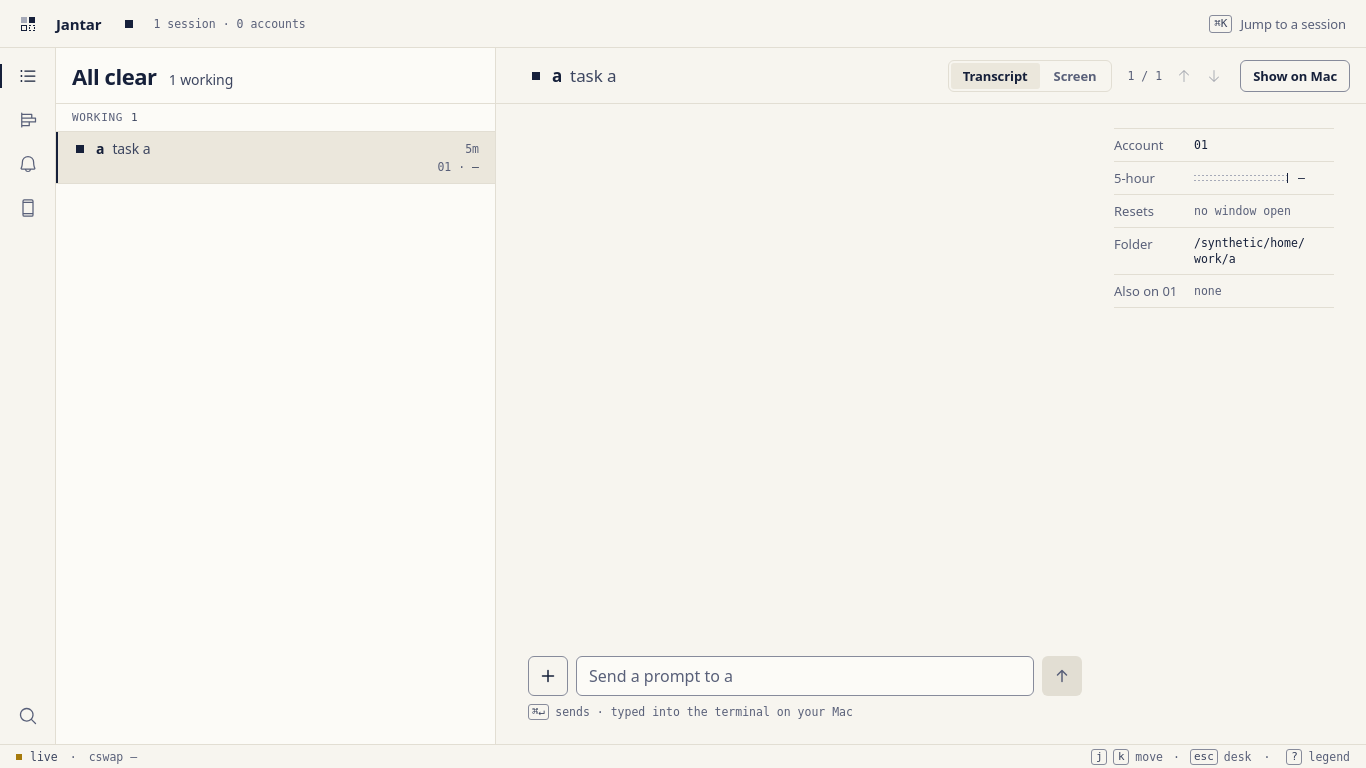
the Screen tab with screenshots on (C8) › a failed tab switch keeps the text peek and says why under it
Click the tab "Screen" at (1075, 76), box [1042,62,1108,88]
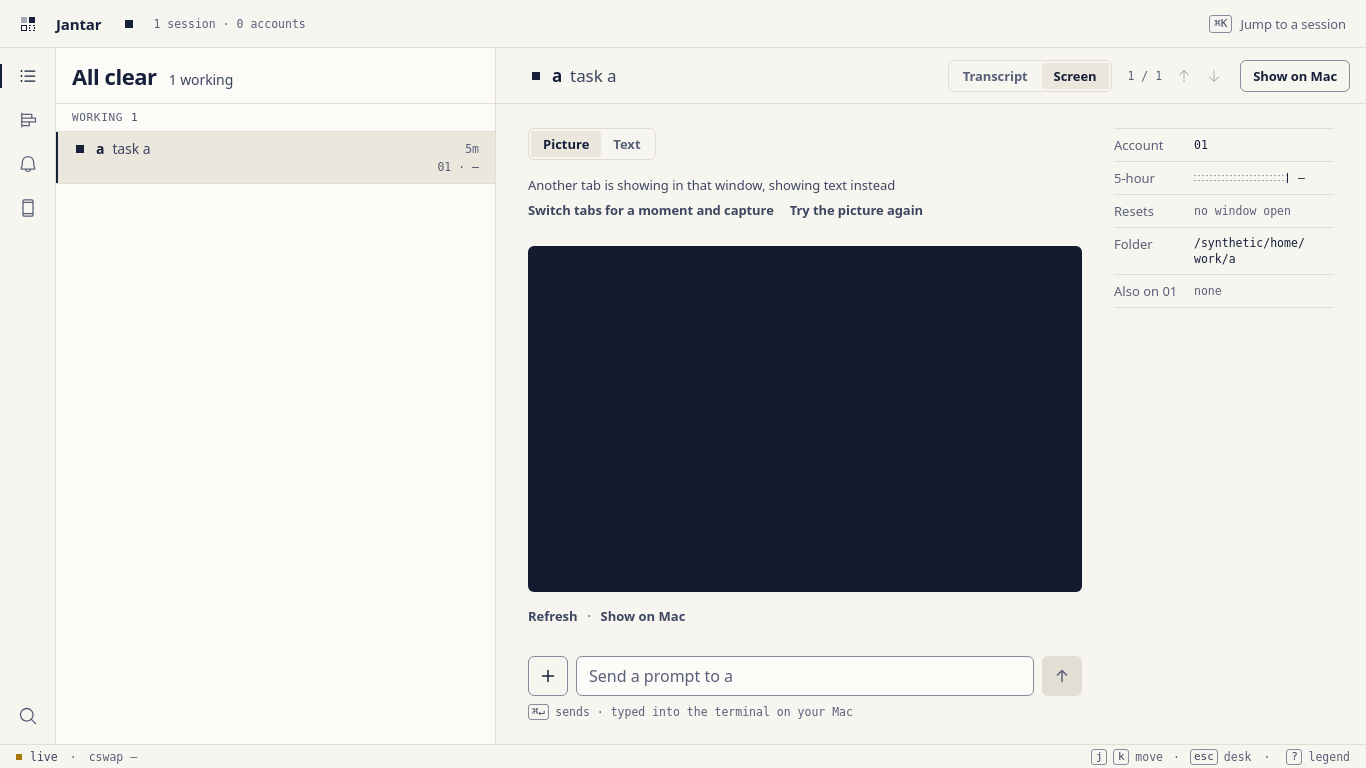
Result: the button with aria-label "Show the screen as" is shown at [528,128,656,160]
Click the button "Switch tabs for a moment and capture" at (651, 210), box [520,198,782,222]
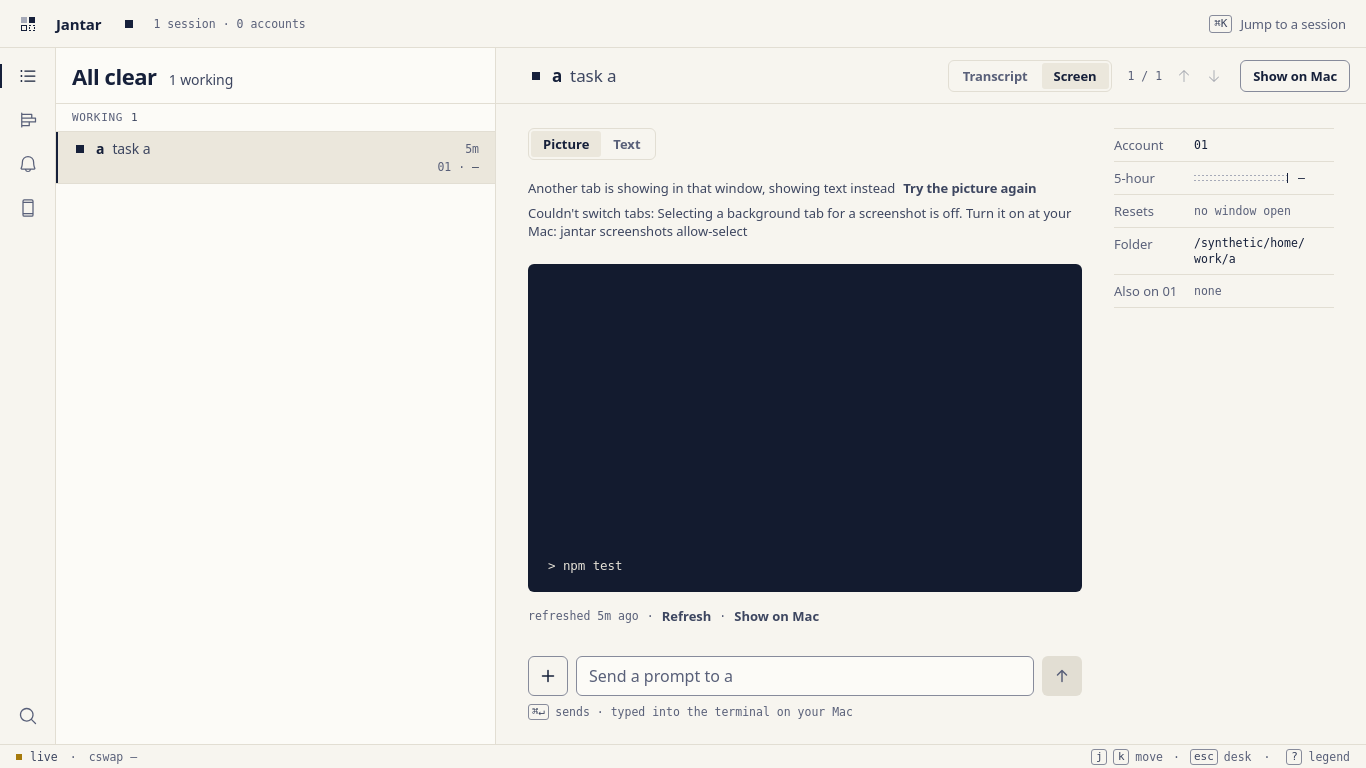
Result: the text "Another tab is showing in that window, showing text instead" is shown at [528,179,895,197]
Result: the message that starts with "Couldn't switch tabs:" shows "Couldn't switch tabs: Selecting a background tab for a screenshot is off" at [528,204,1082,240]
Result: the button with aria-label "Terminal text" reads "> npm test" at [548,558,622,573]
